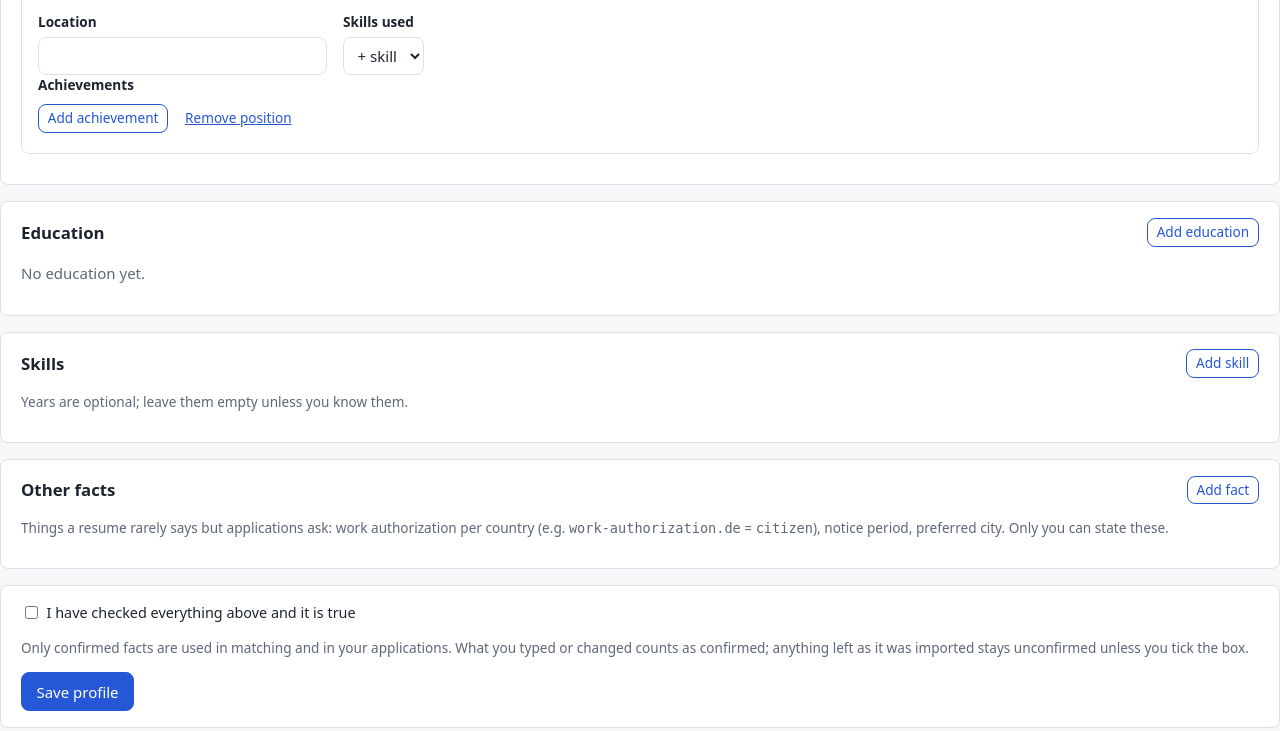
Test case: ProfileEditor › will not save a position without its start month
The image size is (1280, 731).
(page scrolled)
Click the button "Save profile": point(78, 692) [21, 672, 134, 711]
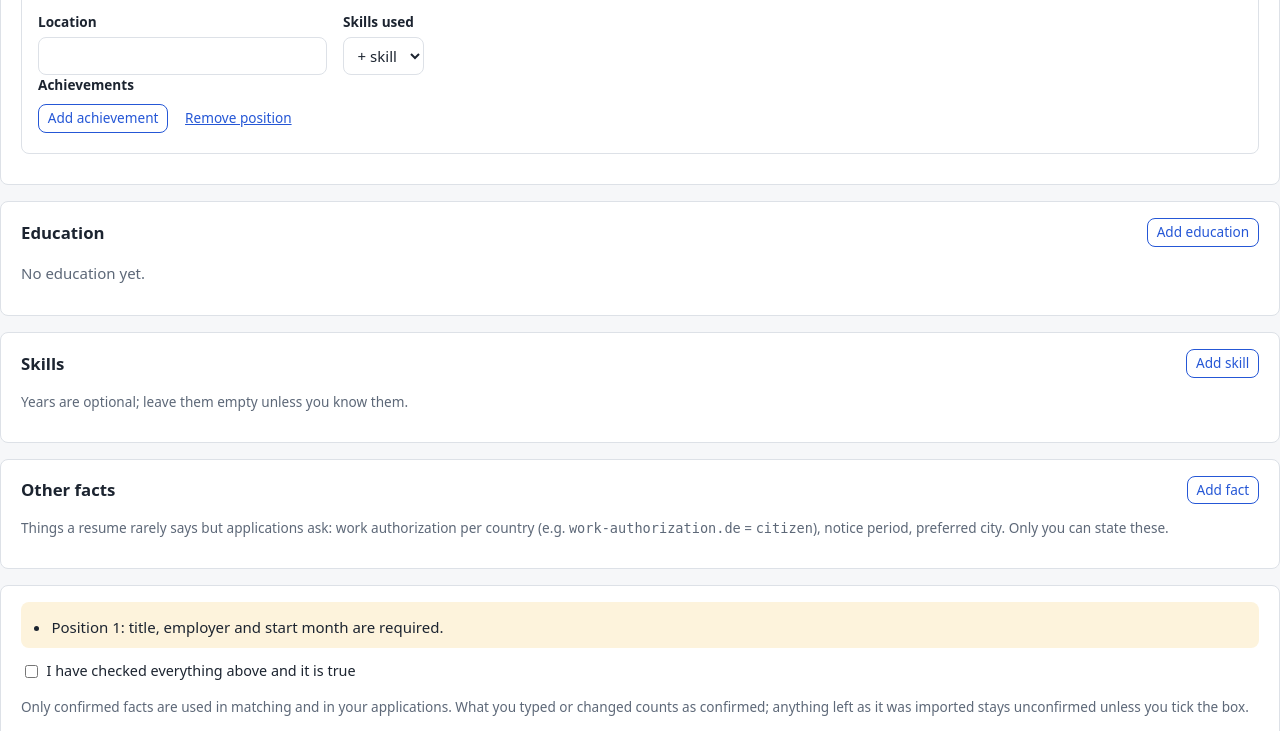
Expected: the list item "Position 1: title, employer and start month are required." is shown, [51, 616, 443, 639]
